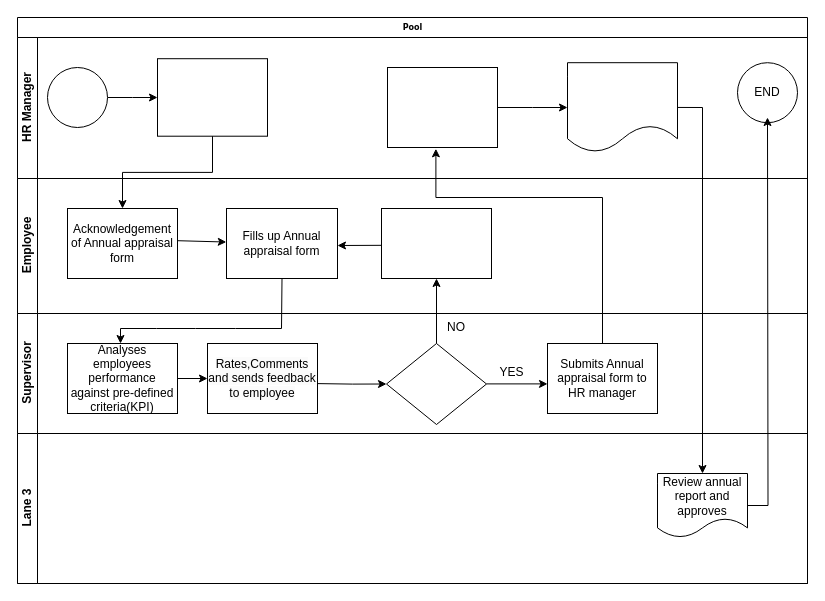
Image size: 825x601. Some labels were removed from this diagram. Here are the shapes that lost their labels. From the top down, the centre of each, then its label:
At point (77, 97): "START".
At point (212, 97): "Prepare annual appraisal schedule (Start of Year)".
At point (442, 107): "Compiles annual appraisal form".
At point (622, 107): "Generate annual appraisal report for all employees".
At point (436, 243): "One to one meeting with employee".
At point (436, 383): "Both Satisfied?".
